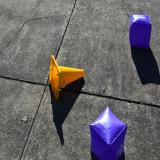cone: (49, 55, 84, 100)
cube: (89, 106, 127, 160), (129, 14, 152, 50)
